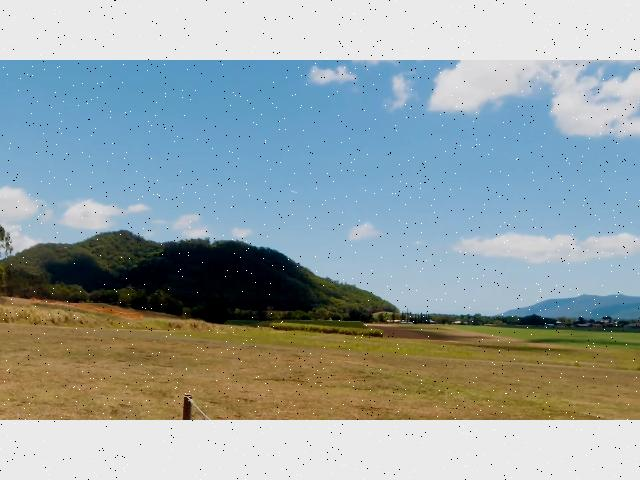Anti-Drone: (286, 184, 308, 200)
